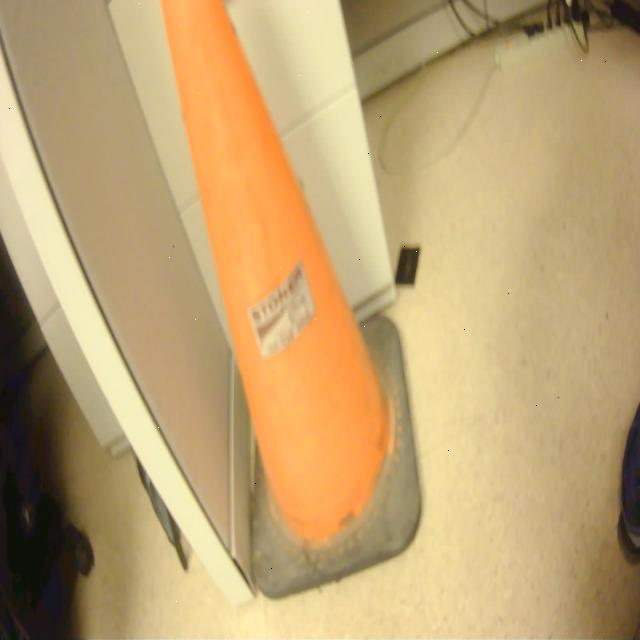traffic cone: (156, 2, 431, 615)
